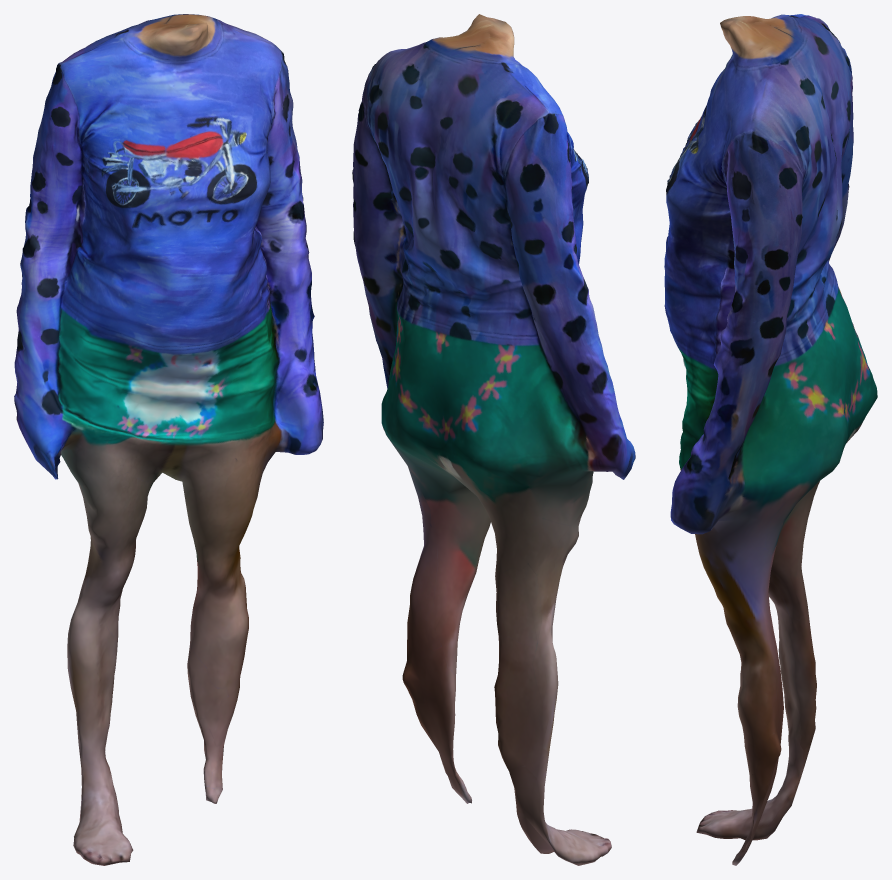
The model's file is scan_rhidancey.glb.
3 views of the same model, side by side, from view 1: azimuth 30°, elevation 25°; view 2: azimuth 150°, elevation 25°; view 3: azimuth 270°, elevation 25° (orthographic). The views are drawn at different scales.
Parts seen in each view (by area): view 1: submesh; view 2: submesh; view 3: submesh.
Boxes of the visible parts, x1,y1,x2,y2 form: submesh: (14, 14, 323, 865); submesh: (352, 14, 635, 865); submesh: (664, 14, 877, 865).
Size of the model in its own units: 0.503 by 1.42 by 0.3199.
Materials: 1 (1 with a texture image).
